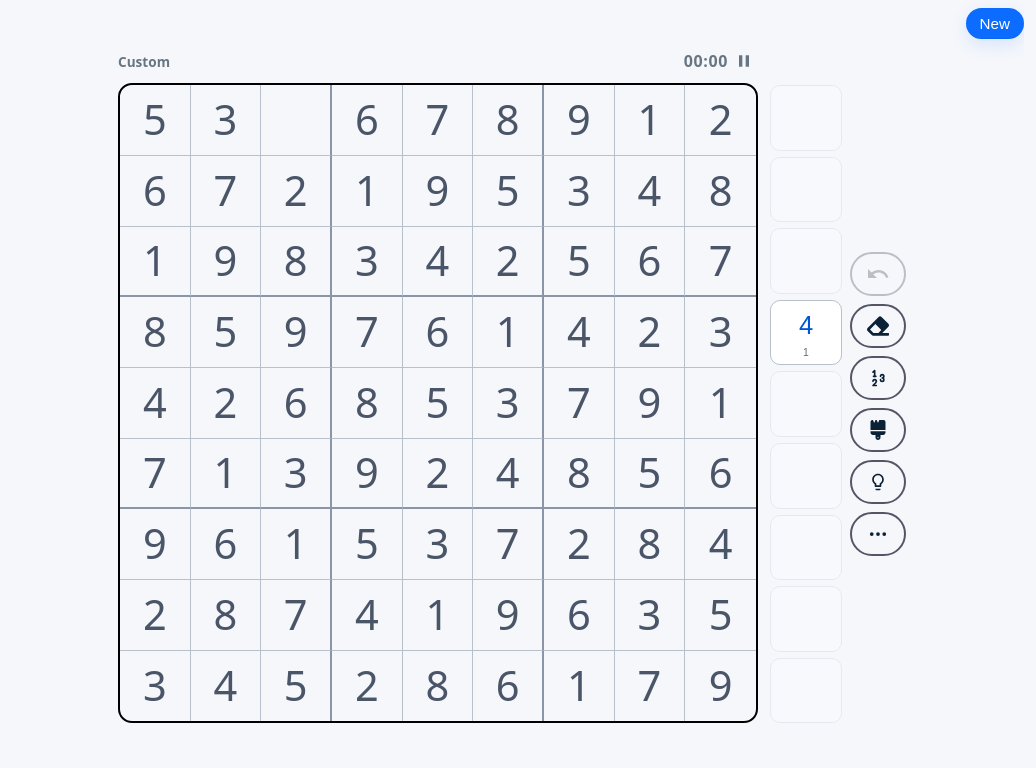
Test: Board component › history actions are disabled initially
This screenshot has width=1036, height=768.
Expected: the button named "undo" is disabled, [850,252,906,296]
Click the button named "toggle more tools".
click(878, 534)  # box [850,512,906,556]
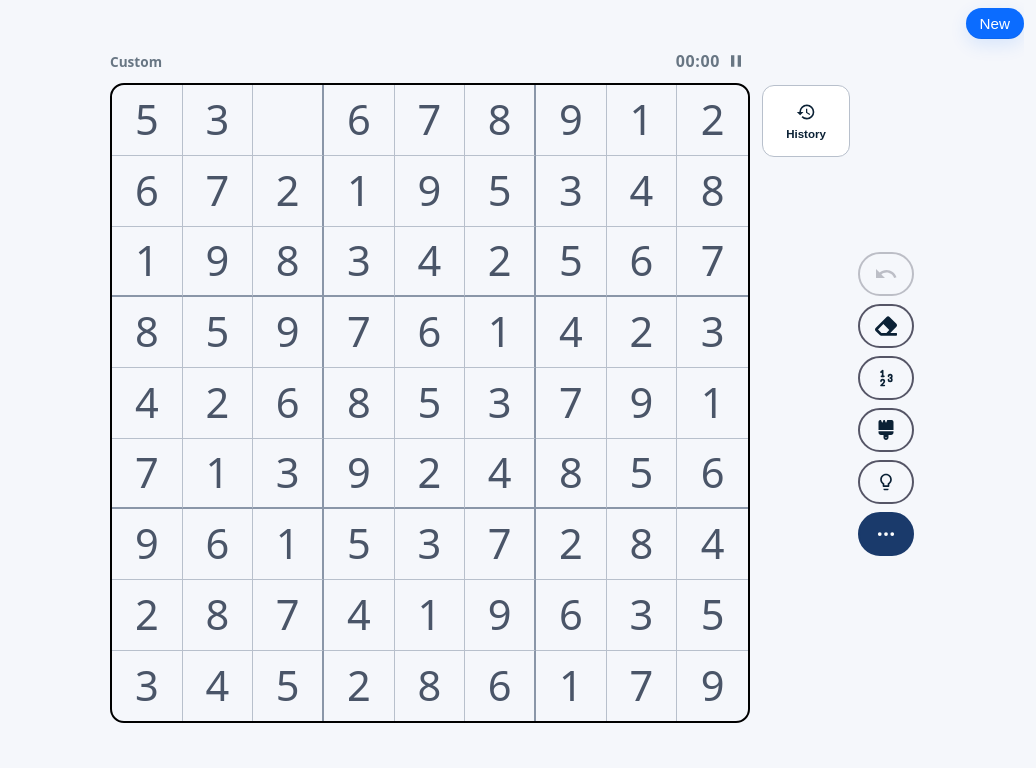
Click the button "History".
click(806, 121)  # box [762,85,850,157]
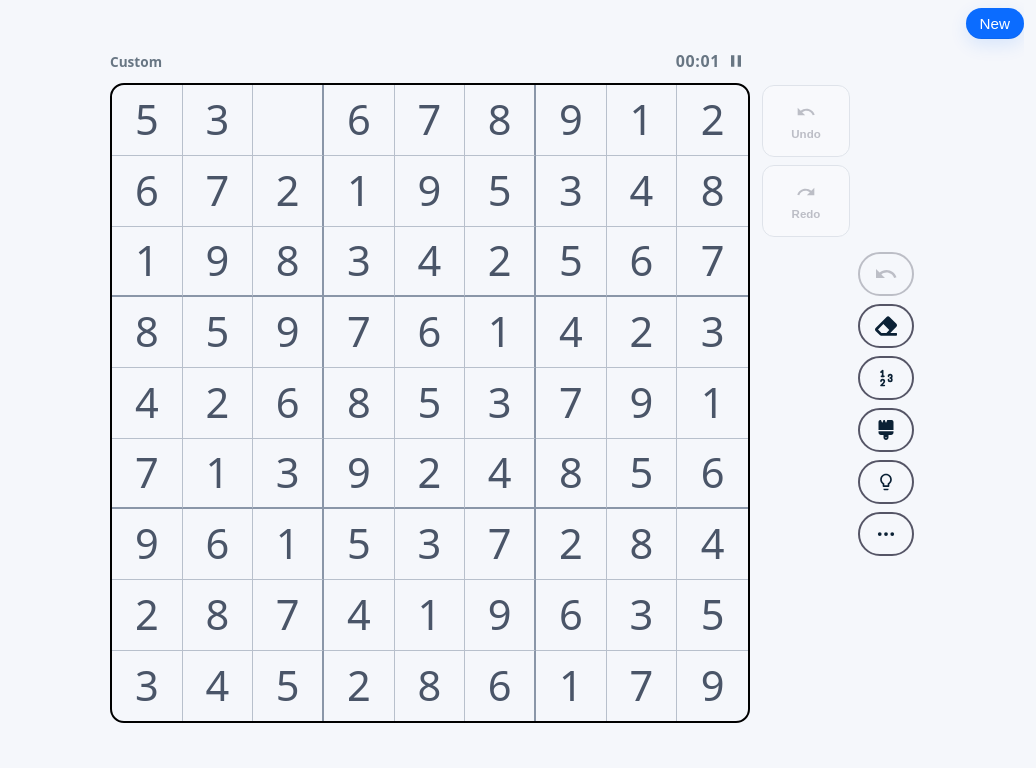
Result: the button "Undo" is disabled at [762,85,850,157]
Result: the button "Redo" is disabled at [762,165,850,237]
